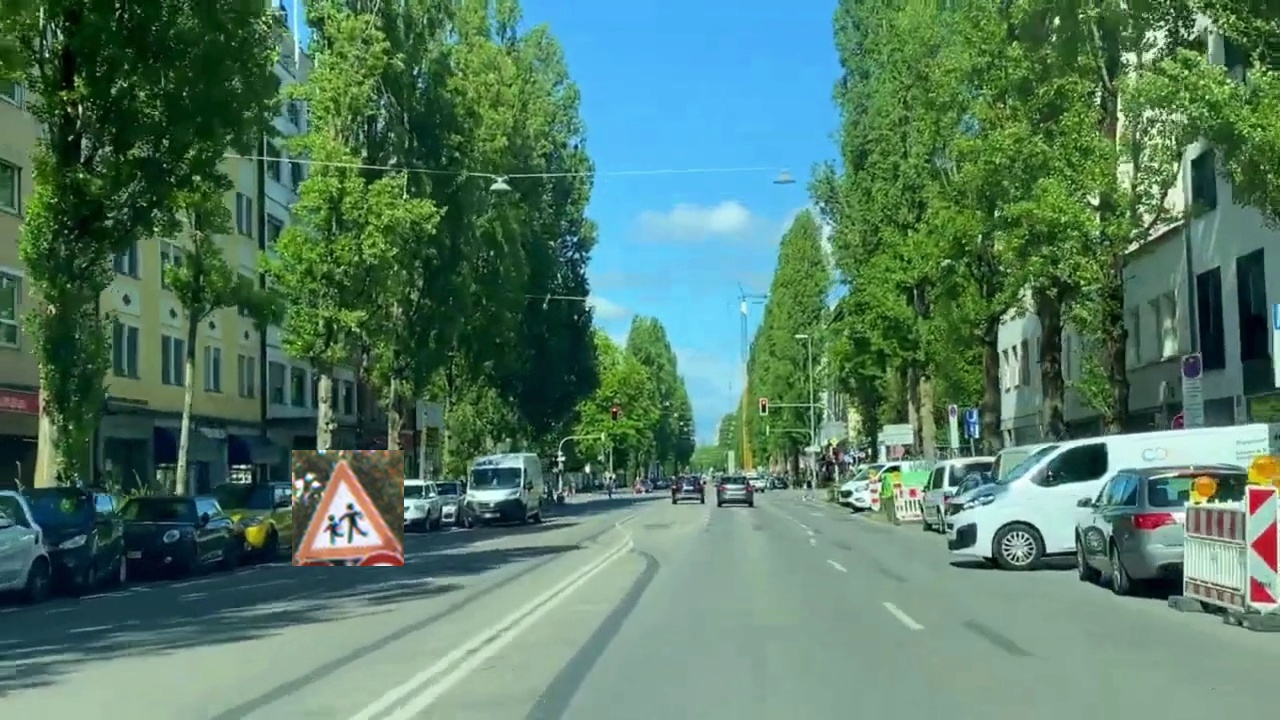Children: (292, 450, 404, 566)
